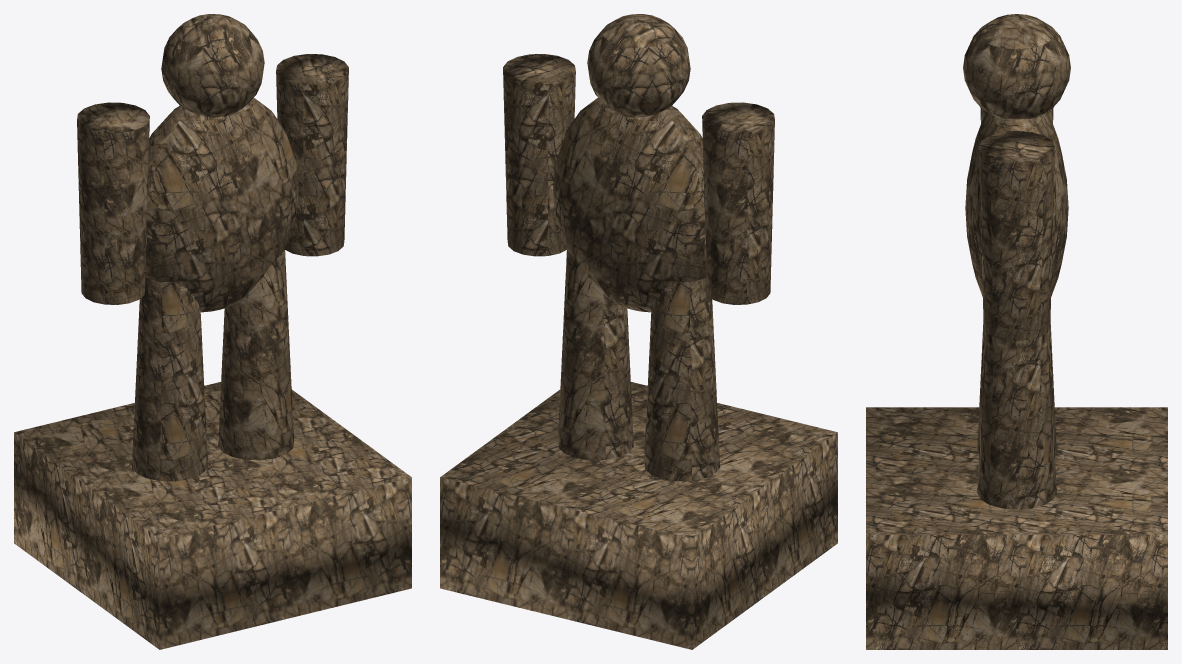
The model's file is hero.glb.
3 views of the same model, side by side, from view 1: azimuth 30°, elevation 25°; view 2: azimuth 150°, elevation 25°; view 3: azimuth 270°, elevation 25° (orthographic). The views are drawn at different scales.
Parts seen in each view (by area): view 1: hero; view 2: hero; view 3: hero.
Part boxes in pixels (x1=…): hero: x1=14, y1=14, x2=411, y2=649; hero: x1=440, y1=14, x2=837, y2=649; hero: x1=866, y1=14, x2=1167, y2=649.
Size of the model in its own units: 3.96 by 7.88 by 3.8.
Materials: 1 (1 with a texture image).
